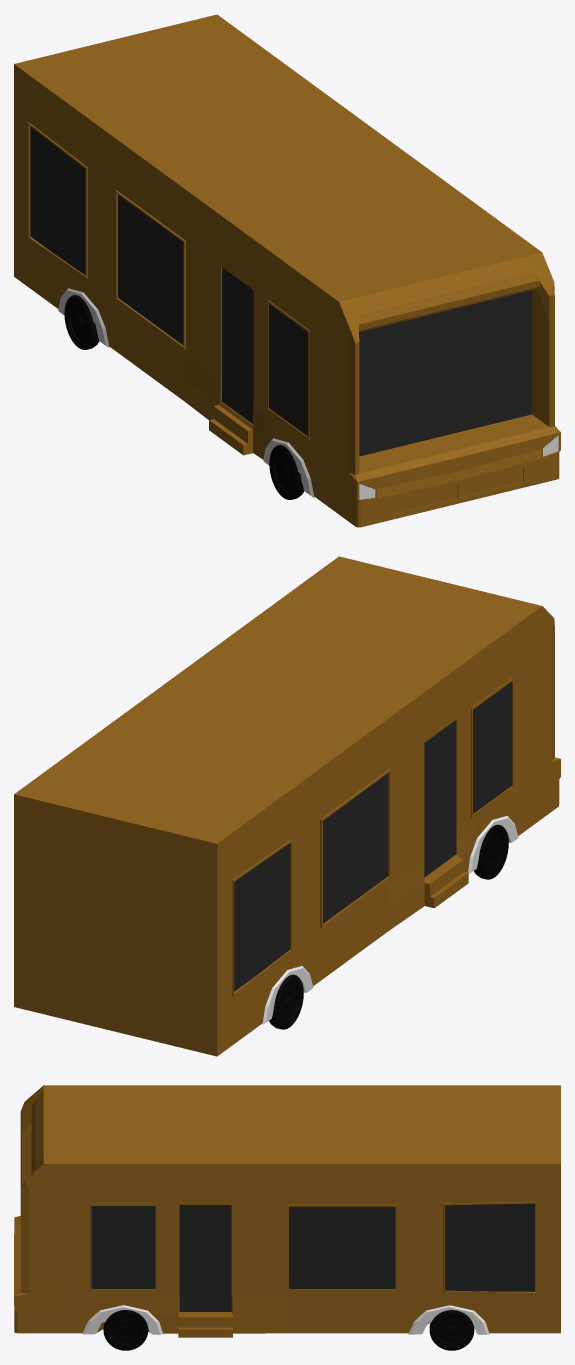
Rendered from Onibus Atual.fbx.
3 renders of one model, top to bottom at view 1: azimuth 30°, elevation 25°; view 2: azimuth 150°, elevation 25°; view 3: azimuth 270°, elevation 25°, orthographic. The views are drawn at different scales.
Visible parts, largest first — view 1: Plane.003, Cube.001, Plane.004, Plane.007, Plane.008, Plane.009, Plane.006; view 2: Plane.003, Cube.001, Plane.007, Plane.008, Plane.009, Plane.006; view 3: Cube.001, Plane.003, Plane.007, Plane.008, Plane.009, Plane.006.
Boxes of the visible parts, bbox=[...] form: Plane.003: bbox=[14, 64, 560, 527]; Cube.001: bbox=[14, 14, 560, 527]; Plane.004: bbox=[359, 290, 532, 456]; Plane.007: bbox=[118, 195, 183, 344]; Plane.008: bbox=[30, 126, 85, 275]; Plane.009: bbox=[222, 267, 253, 424]; Plane.006: bbox=[268, 304, 309, 437]; Plane.003: bbox=[14, 556, 560, 1056]; Cube.001: bbox=[14, 619, 560, 1056]; Plane.007: bbox=[323, 773, 388, 923]; Plane.008: bbox=[234, 843, 290, 991]; Plane.009: bbox=[424, 720, 455, 877]; Plane.006: bbox=[473, 681, 512, 813]; Cube.001: bbox=[14, 1085, 560, 1337]; Plane.003: bbox=[14, 1085, 560, 1350]; Plane.007: bbox=[289, 1206, 395, 1289]; Plane.008: bbox=[445, 1203, 534, 1291]; Plane.009: bbox=[179, 1205, 231, 1311]; Plane.006: bbox=[90, 1205, 155, 1289].
Bounding box in the file's own units: 1133 × 1121 × 2994.
